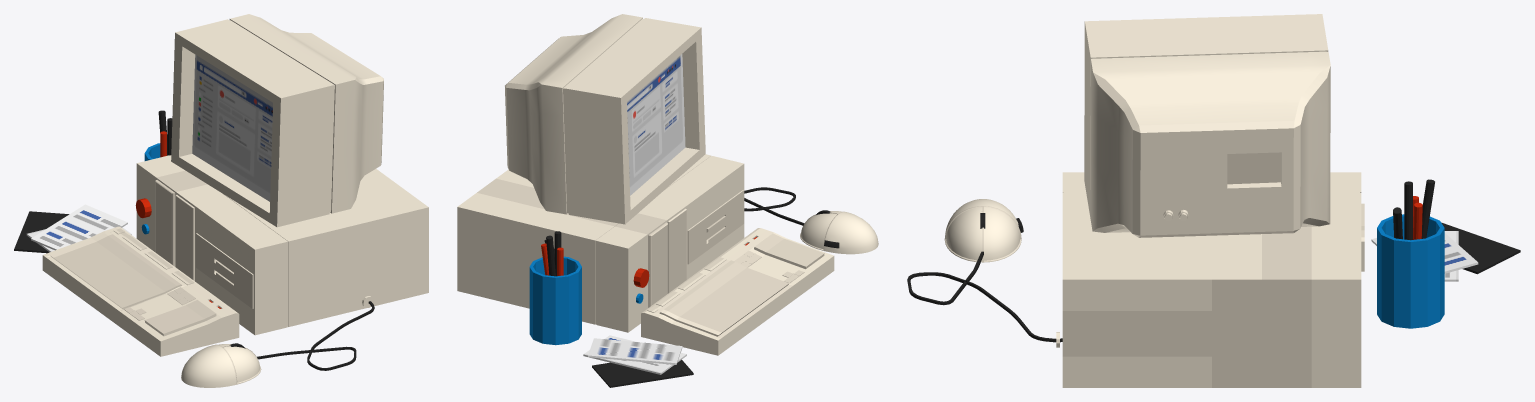
The picture shows the model from 3 angles, left to right: view 1: azimuth 30°, elevation 25°; view 2: azimuth 150°, elevation 25°; view 3: azimuth 270°, elevation 25°; orthographic projection. The views are drawn at different scales.
Visible parts, largest first — view 1: Monitor, Computer base, Keyboard, Mouse, Paper, pencils; view 2: Monitor, Computer base, Keyboard, Pencil case, Paper, Mouse, pencils; view 3: Monitor, Computer base, Pencil case, Mouse, Paper, pencils.
Part boxes in pixels (bbox=[...]): Monitor: bbox=[171, 14, 383, 227]; Computer base: bbox=[135, 155, 428, 335]; Keyboard: bbox=[42, 226, 239, 356]; Mouse: bbox=[181, 301, 374, 387]; Paper: bbox=[14, 204, 131, 253]; pencils: bbox=[158, 110, 172, 157]; Monitor: bbox=[505, 14, 705, 224]; Computer base: bbox=[457, 154, 744, 332]; Keyboard: bbox=[641, 228, 834, 355]; Pencil case: bbox=[529, 256, 581, 345]; Paper: bbox=[583, 335, 693, 387]; Mouse: bbox=[744, 187, 878, 254]; pencils: bbox=[541, 231, 563, 276]; Monitor: bbox=[1084, 14, 1330, 237]; Computer base: bbox=[1056, 172, 1361, 387]; Pencil case: bbox=[1377, 214, 1444, 328]; Mouse: bbox=[907, 199, 1062, 342]; Paper: bbox=[1371, 222, 1520, 281]; pencils: bbox=[1393, 179, 1434, 240].
Bounding box in the file's own units: 2.7 × 2.08 × 4.1.
Materials: 1 (1 with a texture image).
